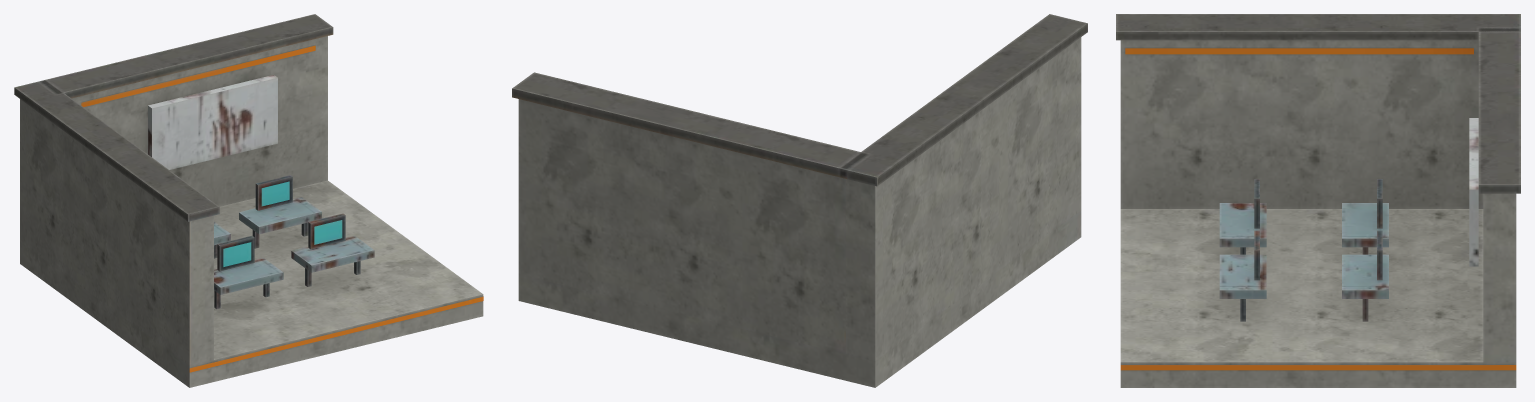
Rendered from university.glb.
The picture shows the model from 3 angles, left to right: view 1: azimuth 30°, elevation 25°; view 2: azimuth 150°, elevation 25°; view 3: azimuth 270°, elevation 25°; orthographic projection. The views are drawn at different scales.
Parts seen in each view (by area): view 1: te_university; view 2: te_university; view 3: te_university.
Part boxes in pixels (x1,y1,x2,y2): te_university: [14, 14, 483, 387]; te_university: [512, 14, 1087, 387]; te_university: [1116, 14, 1520, 387].
Size of the model in its own units: 0.86 by 0.48 by 0.86.
1 material, 1 textured.
